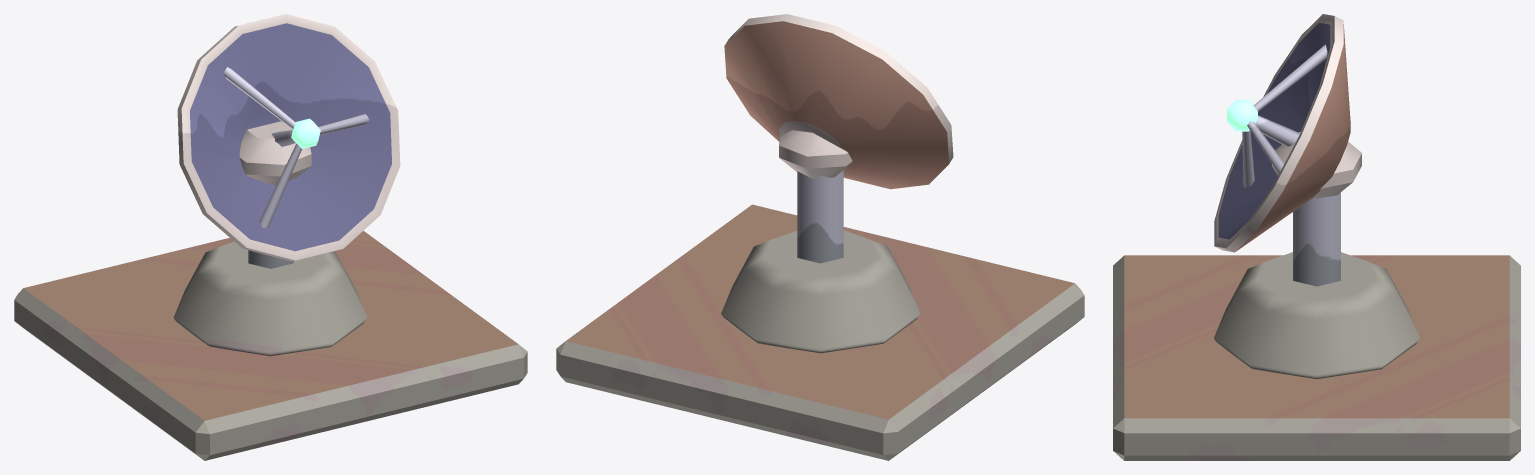
Rendered from R4X_Radar_LOD1.glb.
3 views of the same model, side by side, from view 1: azimuth 30°, elevation 25°; view 2: azimuth 150°, elevation 25°; view 3: azimuth 270°, elevation 25° (orthographic). The views are drawn at different scales.
Visible parts, largest first — view 1: R4X_Radar_LOD1; view 2: R4X_Radar_LOD1; view 3: R4X_Radar_LOD1.
Part boxes in pixels (left/top/right/bottom): R4X_Radar_LOD1: left=14, top=14, right=527, bottom=460; R4X_Radar_LOD1: left=556, top=14, right=1084, bottom=460; R4X_Radar_LOD1: left=1113, top=14, right=1520, bottom=460.
Size of the model in its own units: 0.52 by 0.4941 by 0.52.
5 materials, 4 textured.
